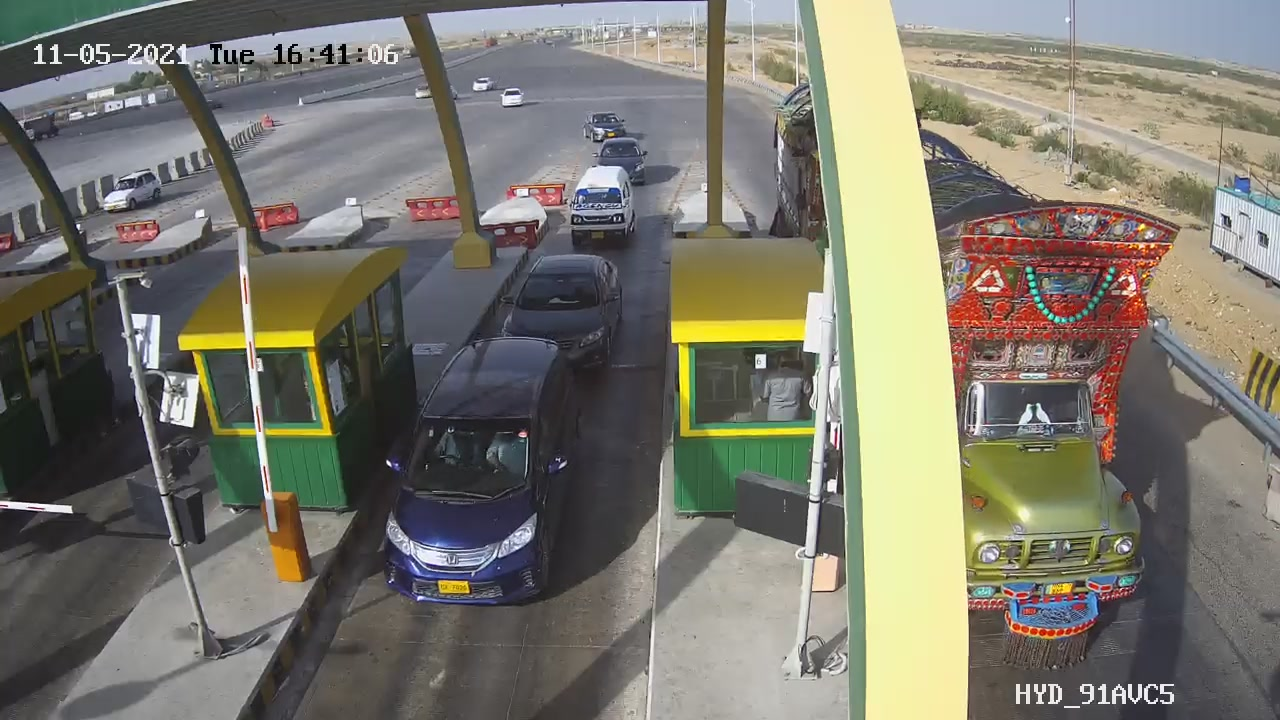F1: (371, 322, 588, 623), (478, 242, 642, 382), (557, 155, 652, 260)
